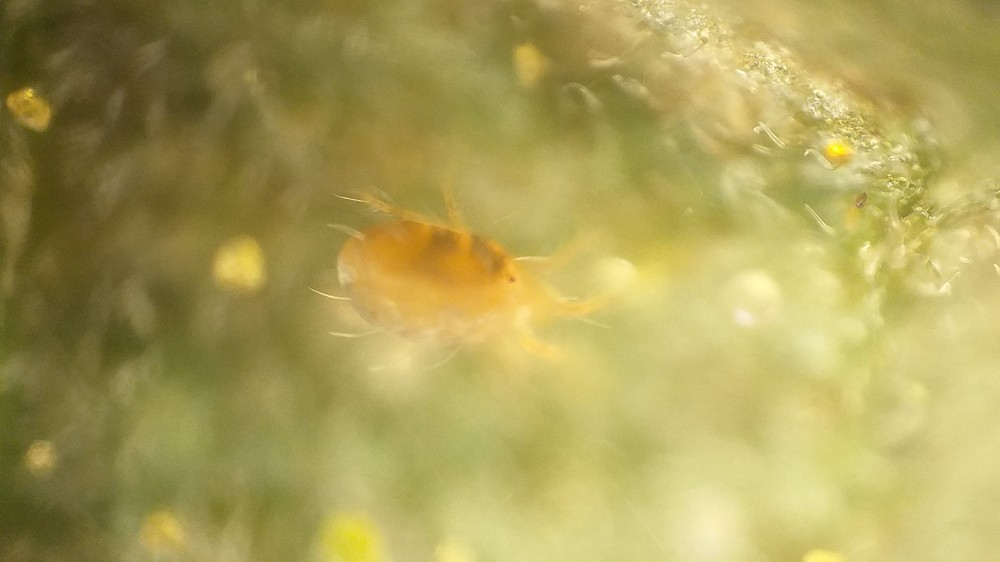Aracnido Rojo: (302, 148, 647, 419)
